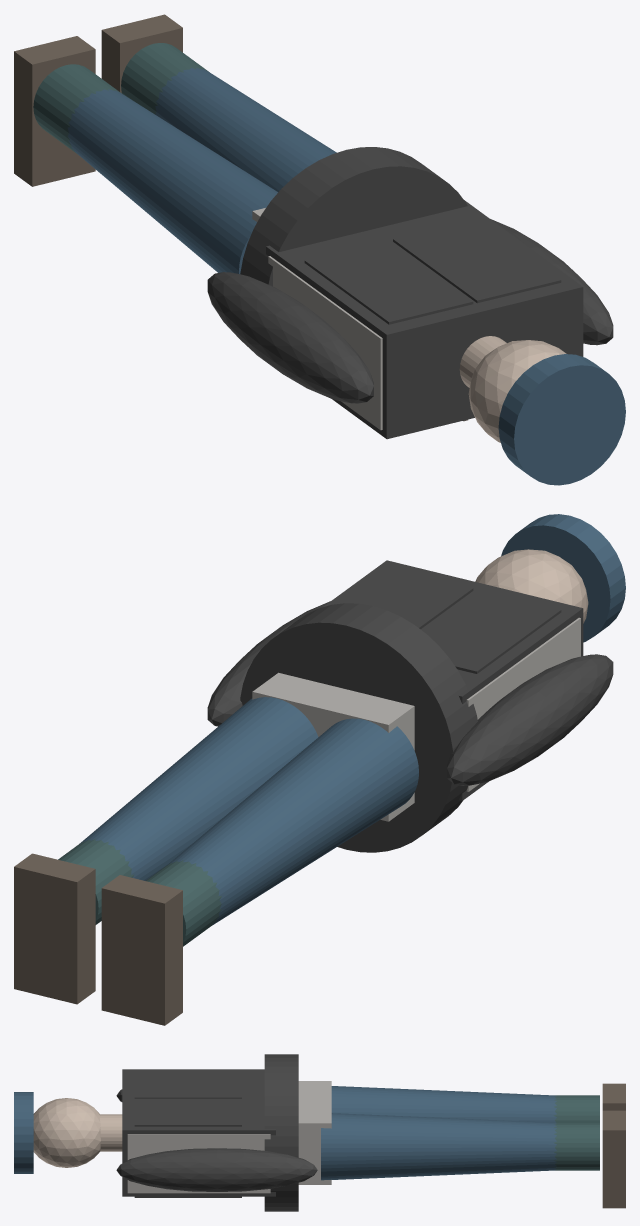
File: MASTER_123_STAGE3_DETAIL.glb
3 renders of one model, top to bottom at view 1: azimuth 30°, elevation 25°; view 2: azimuth 150°, elevation 25°; view 3: azimuth 270°, elevation 25°, orthographic. The views are drawn at different scales.
Parts seen in each view (by area): view 1: slot_upper_inner__këmishë, slot_lower_main__pantallona_L, slot_waist__brez, slot_headwear__mbulesë_koke, slot_upper_inner_sleeve_L, slot_lower_main__pantallona_R, slot_upper_outer__jelek/xhamadan_L, slot_upper_outer__jelek/xhamadan_R, slot_footwear__opinga_L, mannequin_torso, mannequin_head, slot_legwear__çorape_L (+4 smaller); view 2: slot_lower_main__pantallona_L, slot_waist__brez, slot_lower_main__pantallona_R, slot_footwear__opinga_R, slot_footwear__opinga_L, slot_upper_inner_sleeve_L, slot_upper_outer__jelek/xhamadan_L, slot_headwear__mbulesë_koke, mannequin_hips, slot_upper_inner__këmishë, mannequin_head, slot_upper_outer__jelek/xhamadan_R (+4 smaller); view 3: slot_lower_main__pantallona_R, slot_upper_inner_sleeve_R, slot_lower_main__pantallona_L, slot_upper_inner__këmishë, slot_waist__brez, mannequin_head, slot_upper_outer__jelek/xhamadan_R, mannequin_torso, slot_upper_outer__jelek/xhamadan_L, mannequin_hips, slot_footwear__opinga_R, slot_legwear__çorape_R (+4 smaller).
Boxes of the visible parts, box(x1,y1,x2,y2) form: slot_upper_inner__këmishë: box(266, 200, 583, 439); slot_lower_main__pantallona_L: box(67, 89, 277, 273); slot_waist__brez: box(240, 147, 467, 286); slot_headwear__mbulesë_koke: box(498, 354, 625, 485); slot_upper_inner_sleeve_L: box(207, 272, 373, 403); slot_lower_main__pantallona_R: box(155, 68, 336, 192); slot_upper_outer__jelek/xhamadan_L: box(304, 240, 473, 324); slot_upper_outer__jelek/xhamadan_R: box(393, 218, 561, 303); slot_footwear__opinga_L: box(14, 36, 95, 186); mannequin_torso: box(268, 256, 382, 430); mannequin_head: box(468, 340, 566, 442); slot_legwear__çorape_L: box(33, 64, 121, 154); slot_lower_main__pantallona_L: box(167, 718, 418, 925); slot_waist__brez: box(240, 603, 477, 852); slot_lower_main__pantallona_R: box(79, 697, 318, 880); slot_footwear__opinga_R: box(14, 853, 95, 1004); slot_footwear__opinga_L: box(101, 875, 182, 1025); slot_upper_inner_sleeve_L: box(447, 654, 613, 785); slot_upper_outer__jelek/xhamadan_L: box(422, 589, 561, 673); slot_headwear__mbulesë_koke: box(501, 514, 625, 642); mannequin_hips: box(252, 672, 414, 821); slot_upper_inner__këmishë: box(323, 560, 583, 800); mannequin_head: box(475, 549, 588, 623); slot_upper_outer__jelek/xhamadan_R: box(340, 568, 473, 629); slot_lower_main__pantallona_R: box(321, 1113, 556, 1180); slot_upper_inner_sleeve_R: box(116, 1148, 317, 1191); slot_lower_main__pantallona_L: box(331, 1086, 556, 1122); slot_upper_inner__këmishë: box(122, 1069, 275, 1196); slot_waist__brez: box(264, 1054, 298, 1211); mannequin_head: box(33, 1098, 100, 1167); slot_upper_outer__jelek/xhamadan_R: box(134, 1098, 241, 1197); mannequin_torso: box(127, 1134, 270, 1193); slot_upper_outer__jelek/xhamadan_L: box(134, 1071, 241, 1098); mannequin_hips: box(298, 1081, 331, 1184); slot_footwear__opinga_R: box(602, 1110, 625, 1208); slot_legwear__çorape_R: box(554, 1122, 599, 1170).
Size of the model in its own units: 0.6149 by 0.44 by 1.71.
